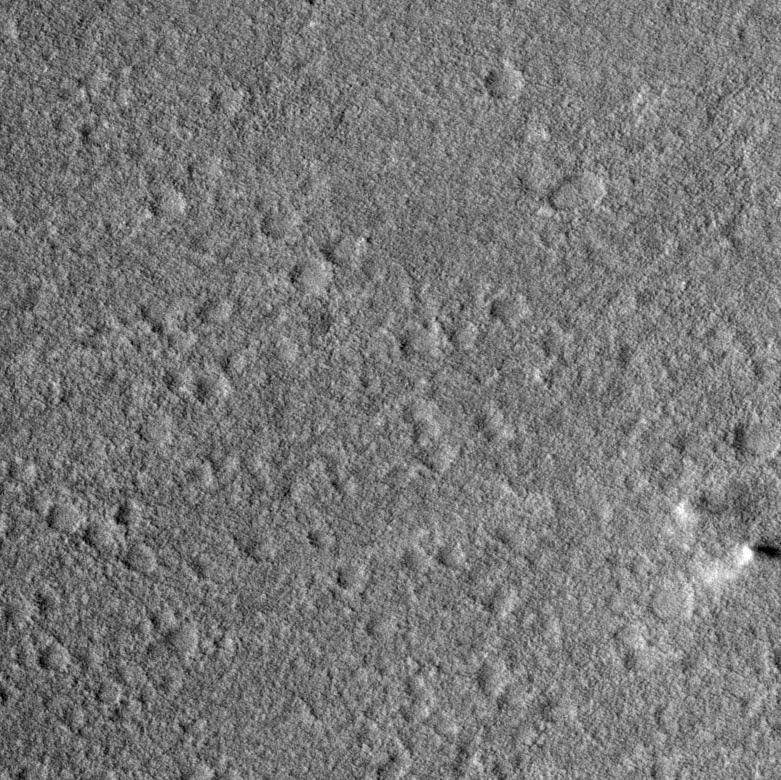dust_devil: (670, 475, 772, 535), (700, 534, 781, 587)
